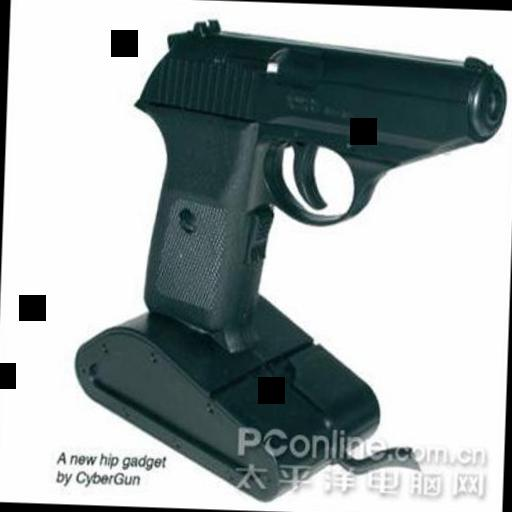Handgun: (124, 14, 507, 352)
